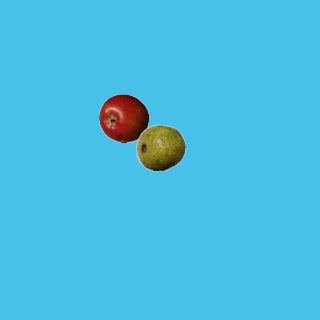Apple Braeburn: (98, 93, 148, 143)
Guava: (135, 122, 185, 172)
